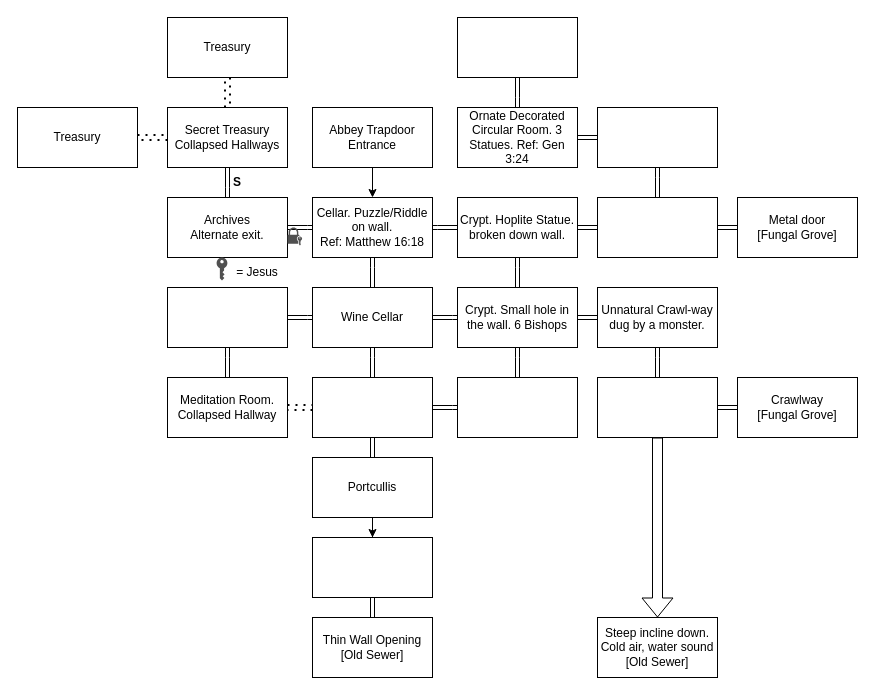
This 875x695 diagram has some shape labels left out. The shapes that lost their labels are listed below. From the top down, each one's centre as x and y in pixels, then its label:
At point 517,47: "Portcullis Spiral Staircase down. Tomb of St. Immaculate".
At point 657,137: "Covered in Ash. Ornate Door (Locked by Button Puzzle)".
At point 657,227: "Small room. Fungus".
At point 227,317: "Black stain on the ground. Upside down cross.".
At point 372,407: "Crypt. Corpse on a cross Collapsed Hallway".
At point 517,407: "Crypt Two Statues (Kneeling and Bearskin)".
At point 657,407: "Huge Natural Cave Statue made of bones".
At point 372,567: "Maintenance Room With Elevator (Thin Wall)".
